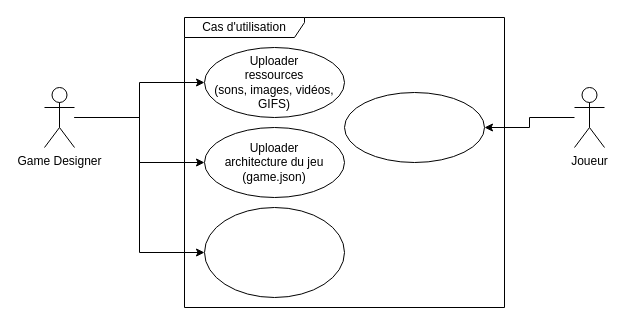
This 625x325 diagram has some shape labels left out. Here are the shapes that lost their labels. From the top down, the box of each, then its label:
(344, 92, 484, 162): Jouer
(204, 206, 344, 298): Obtenir forme d'accès à donner au Joueur (lien...)
